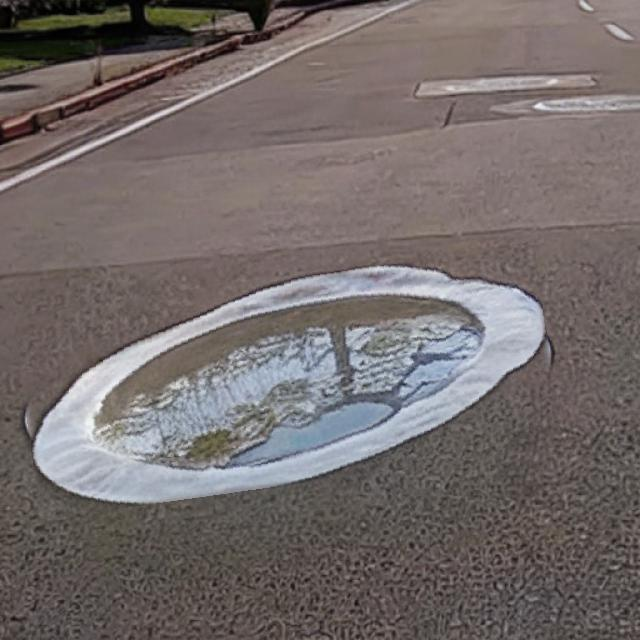puddle: (19, 260, 558, 503)
